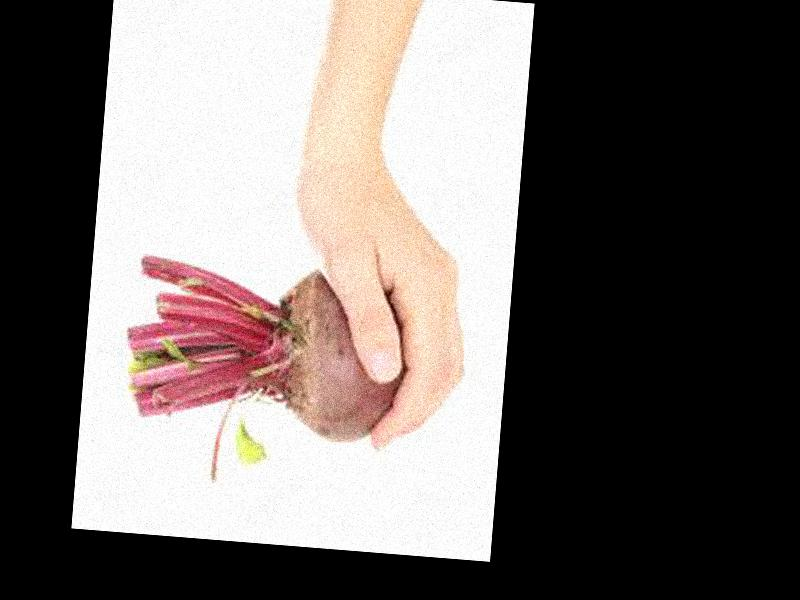Beet: (116, 256, 414, 497)
